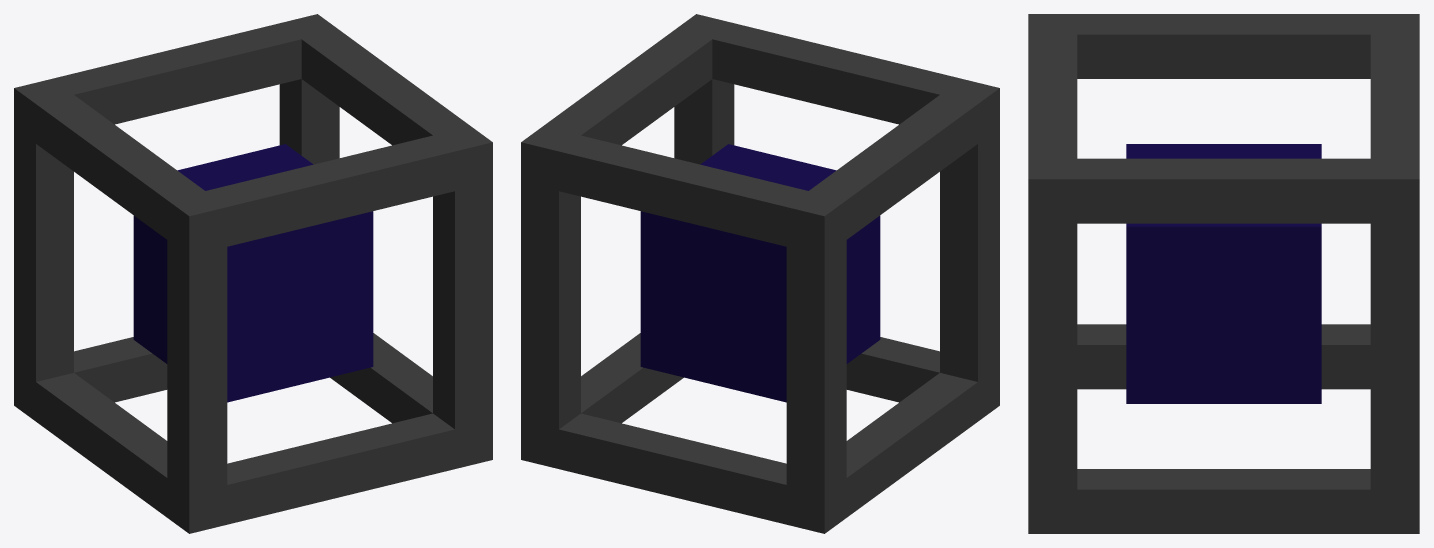
The picture shows the model from 3 angles, left to right: view 1: azimuth 30°, elevation 25°; view 2: azimuth 150°, elevation 25°; view 3: azimuth 270°, elevation 25°; orthographic projection. The views are drawn at different scales.
Parts seen in each view (by area): view 1: Outer_16x16x16, Inner_16x16x16.001; view 2: Outer_16x16x16, Inner_16x16x16.001; view 3: Outer_16x16x16, Inner_16x16x16.001.
Boxes of the visible parts, x1,y1,x2,y2 form: Outer_16x16x16: (14, 14, 492, 533); Inner_16x16x16.001: (133, 144, 373, 402); Outer_16x16x16: (521, 14, 999, 533); Inner_16x16x16.001: (640, 144, 880, 402); Outer_16x16x16: (1028, 14, 1419, 533); Inner_16x16x16.001: (1126, 144, 1321, 403).
Size of the model in its own units: 1.6 by 1.6 by 1.6.
